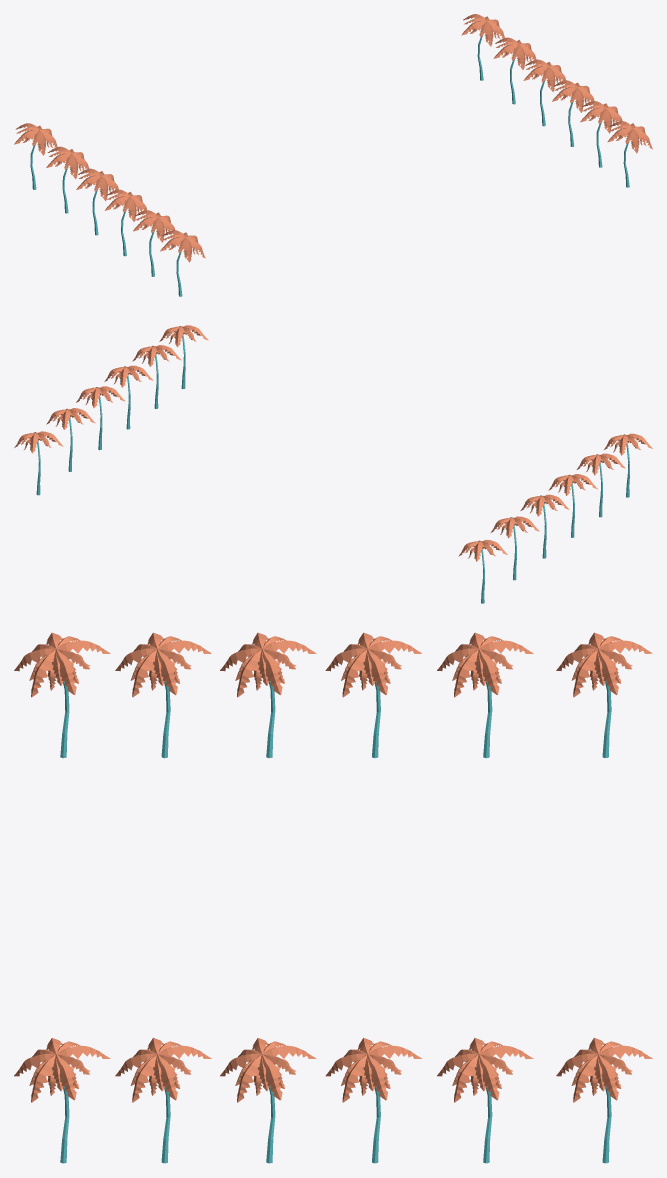
File: Trees.glb
The picture shows the model from 3 angles, top to bottom: view 1: azimuth 30°, elevation 25°; view 2: azimuth 150°, elevation 25°; view 3: azimuth 270°, elevation 25°; orthographic projection. The views are drawn at different scales.
Parts seen in each view (by area): view 1: Palm_Tree_01__5_, Palm_Tree_01, Palm_Tree_01__13_, Palm_Tree_01__1_, Palm_Tree_01__12_, Palm_Tree_01__7_, Palm_Tree_01__16_, Palm_Tree_01__2_, Palm_Tree_01__10_, Palm_Tree_01__3_, Palm_Tree_01__17_, Palm_Tree_01__4_; view 2: Palm_Tree_01__13_, Palm_Tree_01__12_, Palm_Tree_01__2_, Palm_Tree_01__16_, Palm_Tree_01__10_, Palm_Tree_01__17_, Palm_Tree_01__1_, Palm_Tree_01__4_, Palm_Tree_01__7_, Palm_Tree_01__3_, Palm_Tree_01__5_, Palm_Tree_01; view 3: Palm_Tree_01__12_, Palm_Tree_01__10_, Palm_Tree_01__17_, Palm_Tree_01__2_, Palm_Tree_01__4_, Palm_Tree_01__16_, Palm_Tree_01__3_, Palm_Tree_01__7_, Palm_Tree_01, Palm_Tree_01__13_, Palm_Tree_01__1_, Palm_Tree_01__5_.
Boxes of the visible parts, box(x1,y1,x2,y2) form: Palm_Tree_01__5_: box(160, 230, 205, 296); Palm_Tree_01: box(14, 123, 59, 189); Palm_Tree_01__13_: box(607, 121, 652, 187); Palm_Tree_01__1_: box(46, 146, 89, 213); Palm_Tree_01__12_: box(461, 14, 506, 80); Palm_Tree_01__7_: box(493, 37, 536, 104); Palm_Tree_01__16_: box(552, 80, 594, 146); Palm_Tree_01__2_: box(76, 168, 118, 235); Palm_Tree_01__10_: box(580, 101, 622, 167); Palm_Tree_01__3_: box(104, 189, 146, 256); Palm_Tree_01__17_: box(523, 59, 565, 126); Palm_Tree_01__4_: box(133, 210, 175, 276); Palm_Tree_01__13_: box(159, 325, 208, 388); Palm_Tree_01__12_: box(14, 431, 63, 495); Palm_Tree_01__2_: box(520, 494, 569, 558); Palm_Tree_01__16_: box(104, 365, 153, 429); Palm_Tree_01__10_: box(132, 345, 181, 408); Palm_Tree_01__17_: box(76, 386, 124, 450); Palm_Tree_01__1_: box(490, 516, 539, 580); Palm_Tree_01__4_: box(576, 453, 625, 517); Palm_Tree_01__7_: box(46, 408, 95, 471); Palm_Tree_01__3_: box(548, 474, 597, 537); Palm_Tree_01__5_: box(604, 433, 652, 497); Palm_Tree_01: box(458, 539, 507, 603); Palm_Tree_01__12_: box(556, 1038, 652, 1163); Palm_Tree_01__10_: box(115, 1038, 211, 1163); Palm_Tree_01__17_: box(325, 1038, 421, 1163); Palm_Tree_01__2_: box(325, 632, 421, 758); Palm_Tree_01__4_: box(115, 632, 211, 758); Palm_Tree_01__16_: box(220, 1038, 316, 1163); Palm_Tree_01__3_: box(220, 632, 316, 758); Palm_Tree_01__7_: box(437, 1038, 533, 1163); Palm_Tree_01: box(556, 632, 652, 758); Palm_Tree_01__13_: box(14, 1038, 110, 1163); Palm_Tree_01__1_: box(437, 632, 533, 758); Palm_Tree_01__5_: box(14, 632, 110, 758).
Size of the model in its own units: 71.88 by 8.76 by 43.57.
